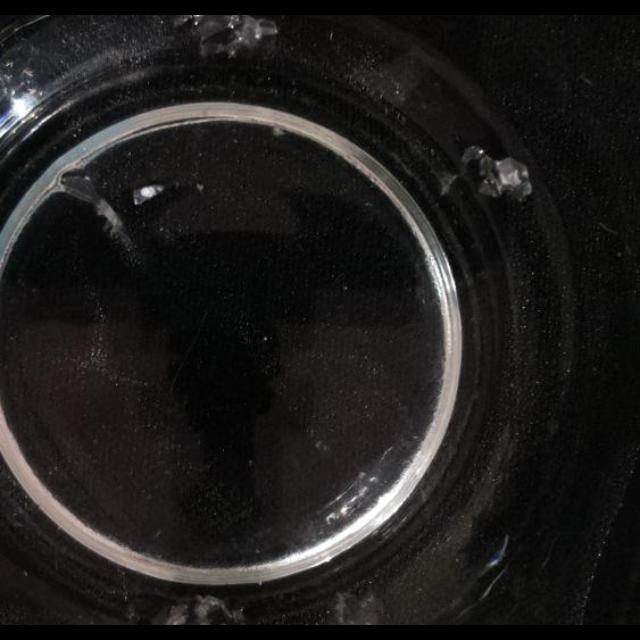Fibre: (461, 146, 531, 202), (150, 595, 242, 625), (132, 183, 168, 205), (272, 125, 286, 137)
microbeads: (315, 438, 331, 452), (246, 458, 254, 468), (342, 284, 350, 292), (263, 336, 269, 342)
